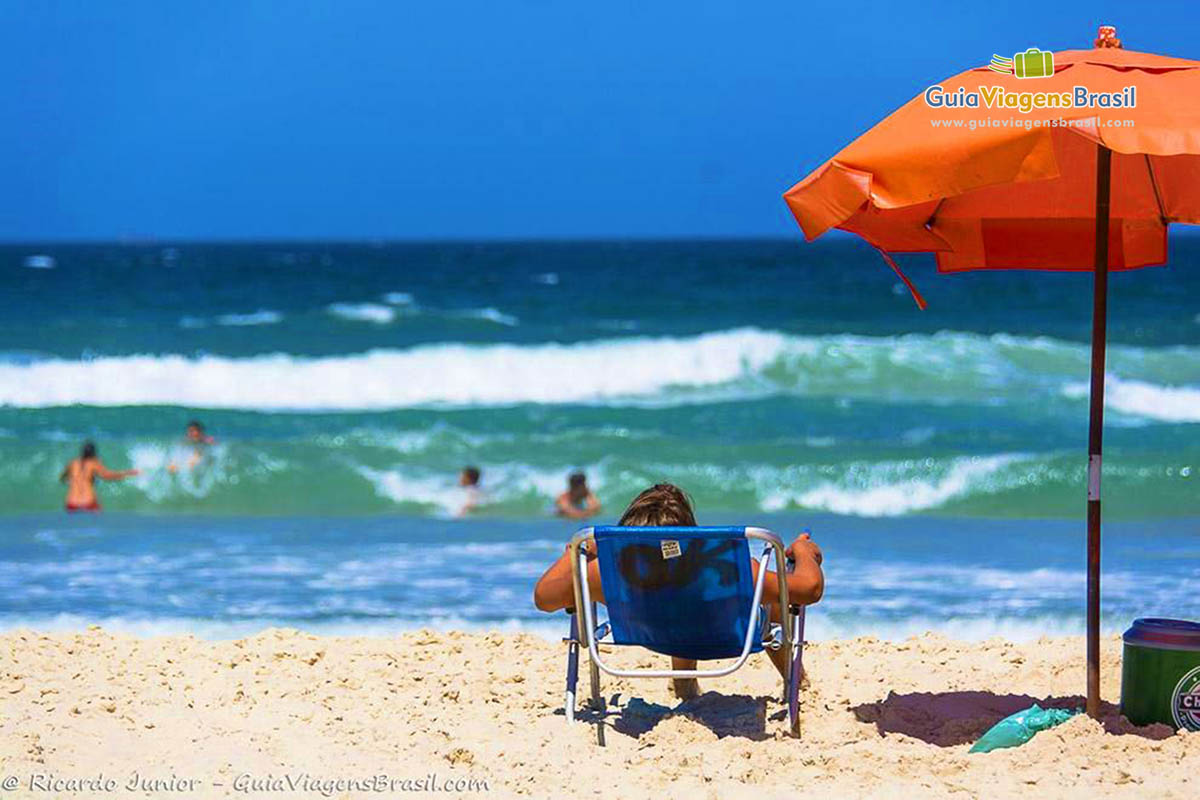Humano: (552, 488, 849, 726), (51, 434, 150, 519), (543, 463, 604, 521)
